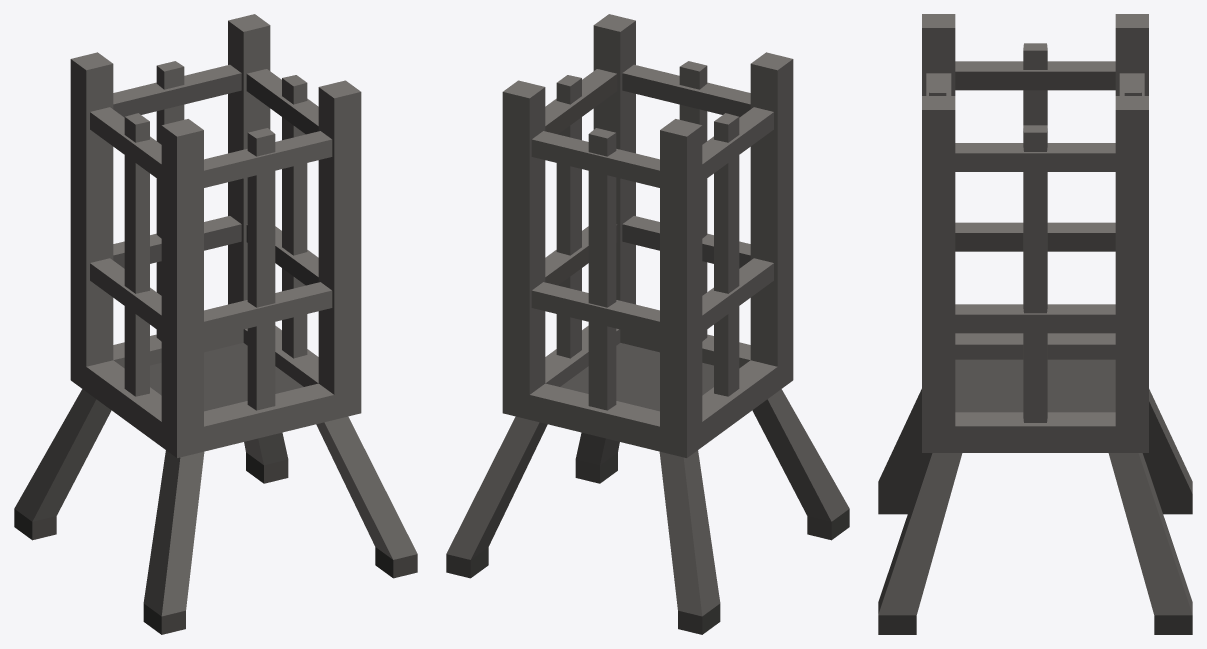
File: SD_Prop_Brazier_02.fbx
3 renders of one model, left to right at view 1: azimuth 30°, elevation 25°; view 2: azimuth 150°, elevation 25°; view 3: azimuth 270°, elevation 25°, orthographic. The views are drawn at different scales.
Visible parts, largest first — view 1: SD_Prop_Brazier_02; view 2: SD_Prop_Brazier_02; view 3: SD_Prop_Brazier_02.
Boxes of the visible parts, bbox=[...] form: SD_Prop_Brazier_02: bbox=[14, 14, 417, 634]; SD_Prop_Brazier_02: bbox=[446, 14, 849, 634]; SD_Prop_Brazier_02: bbox=[878, 14, 1192, 634].
Size of the model in its own units: 0.9845 by 1.74 by 0.9817.
